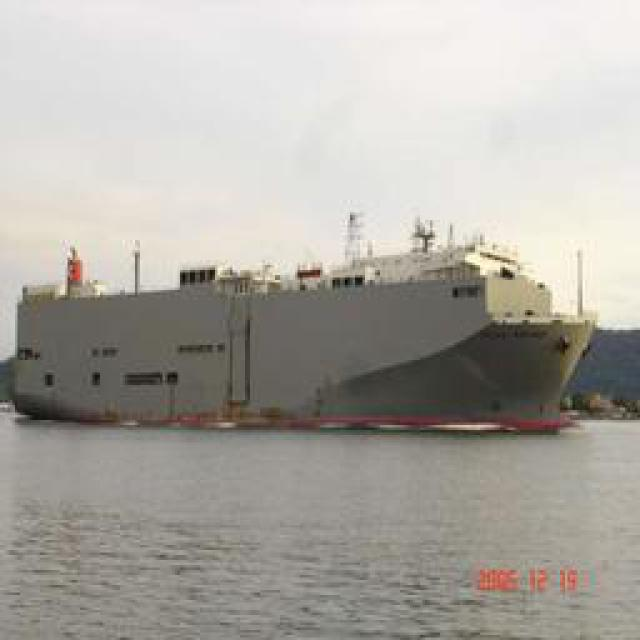Ship: (13, 241, 598, 434)
